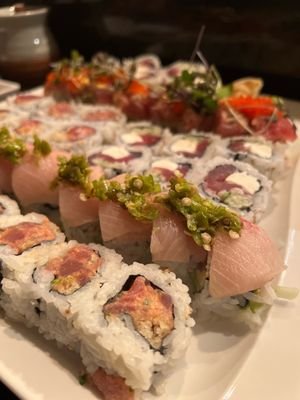sandwich: (1, 52, 300, 380)
